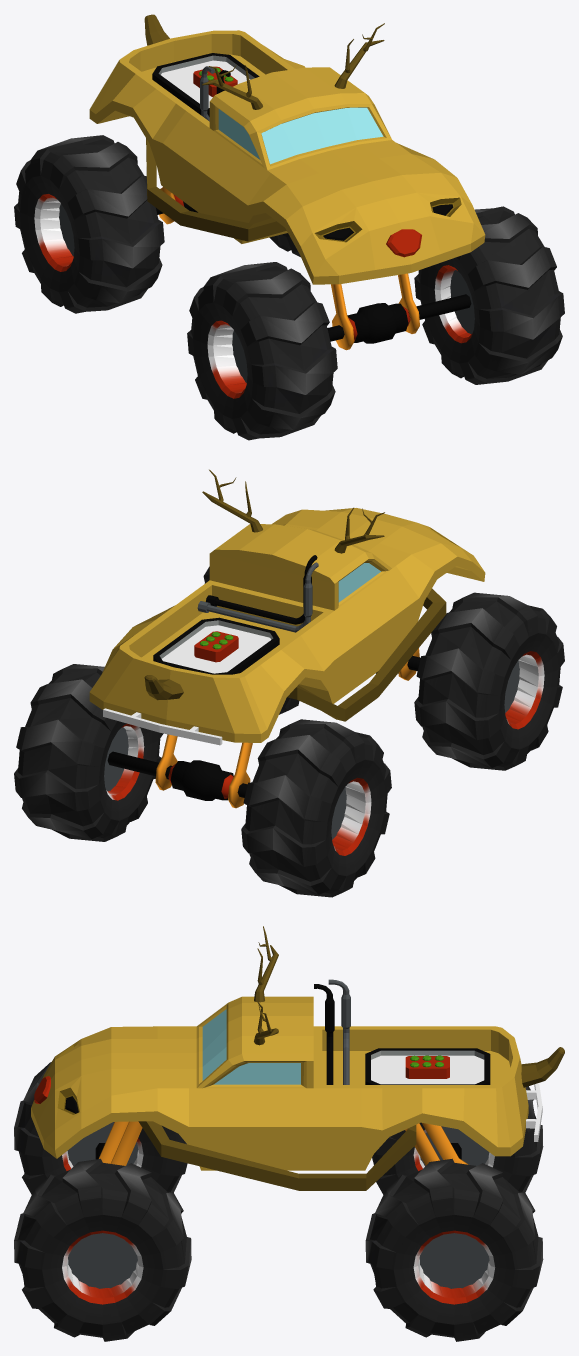
Rendered from reindeer.fbx.
3 renders of one model, top to bottom at view 1: azimuth 30°, elevation 25°; view 2: azimuth 150°, elevation 25°; view 3: azimuth 270°, elevation 25°, orthographic.
Visible parts, largest first — view 1: Monster_Truck_Body, Wheel_FR, Wheel_RR, Wheel_FL, Monster_Truck_Livery, Axel Front; view 2: Monster_Truck_Body, Wheel_RR, Wheel_FR, Wheel_RL, Monster_Truck_Livery, Axel Back; view 3: Monster_Truck_Body, Wheel_FL, Wheel_RL, Monster_Truck_Livery, Wheel_FR, Wheel_RR, Axel Front, Axel Back.
Boxes of the visible parts, box(x1,y1,x2,y2) form: Monster_Truck_Body: box(89, 23, 485, 284); Wheel_FR: box(187, 262, 337, 440); Wheel_RR: box(14, 135, 164, 313); Wheel_FL: box(414, 206, 564, 384); Monster_Truck_Livery: box(144, 14, 421, 257); Axel Front: box(327, 273, 471, 350); Monster_Truck_Body: box(89, 469, 485, 745); Wheel_RR: box(241, 719, 391, 897); Wheel_FR: box(414, 592, 564, 770); Wheel_RL: box(14, 664, 163, 841); Monster_Truck_Livery: box(144, 555, 318, 700); Axel Back: box(107, 734, 252, 808); Monster_Truck_Body: box(31, 926, 542, 1190); Wheel_FL: box(14, 1158, 191, 1341); Wheel_RL: box(365, 1158, 543, 1341); Monster_Truck_Livery: box(34, 979, 564, 1103); Wheel_FR: box(14, 1062, 187, 1194); Wheel_RR: box(372, 1086, 543, 1194); Axel Front: box(95, 1121, 142, 1165); Axel Back: box(405, 1123, 468, 1165).
Bounding box in the file's own units: 485 × 454 × 745.
